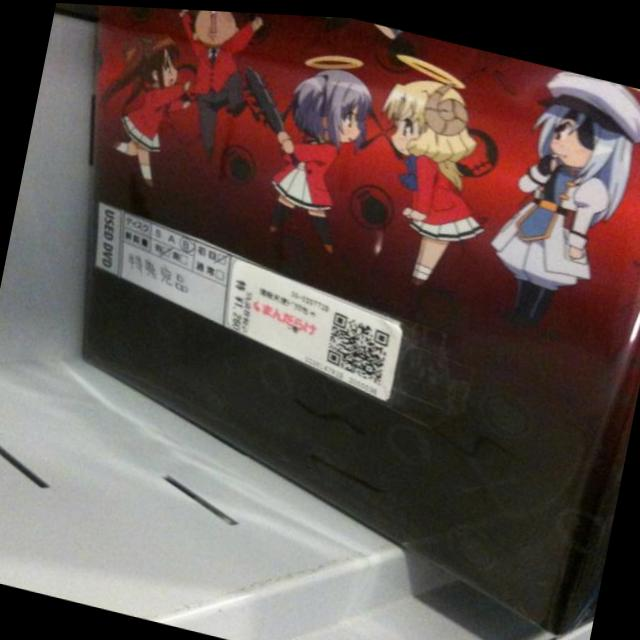qrcode: (323, 309, 393, 383)
